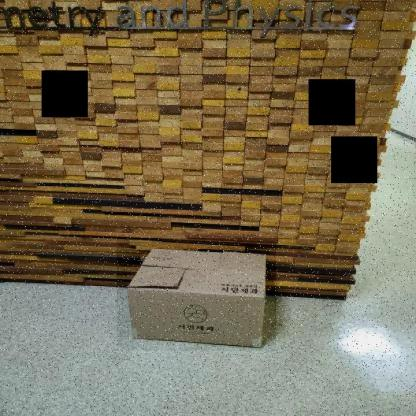box: (117, 238, 276, 351)
